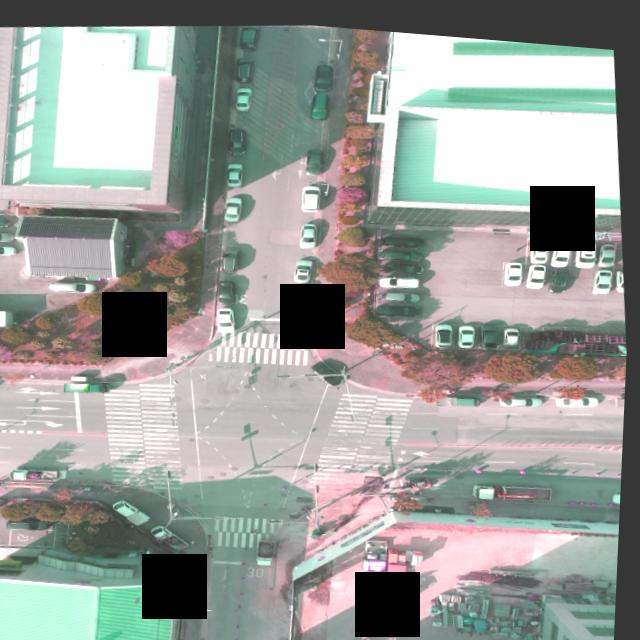car: (44, 274, 96, 296), (377, 224, 429, 244), (311, 354, 344, 382), (307, 85, 332, 116), (380, 241, 425, 258), (377, 295, 421, 312), (502, 384, 546, 401), (214, 300, 238, 331), (382, 252, 423, 270), (546, 255, 570, 285), (237, 19, 260, 49), (217, 275, 241, 302), (299, 178, 321, 207), (381, 266, 420, 282), (593, 256, 616, 283), (575, 228, 598, 255), (558, 385, 599, 400), (383, 283, 421, 299), (549, 233, 572, 259), (524, 254, 547, 280), (502, 251, 525, 277), (292, 252, 314, 279), (226, 123, 247, 151), (312, 57, 333, 85), (302, 142, 323, 170), (222, 190, 243, 217), (298, 217, 318, 244), (233, 82, 254, 107), (292, 279, 313, 304), (531, 229, 552, 253), (434, 315, 454, 340), (458, 317, 479, 340), (479, 317, 500, 340), (224, 159, 244, 183), (221, 245, 240, 269), (599, 233, 618, 257), (230, 58, 248, 79), (504, 318, 522, 338), (0, 243, 19, 257), (615, 257, 626, 281), (0, 229, 18, 242), (0, 215, 15, 229), (611, 481, 625, 494)
medium_truck: (477, 470, 553, 497)
small_truck: (111, 493, 156, 527), (12, 463, 74, 486), (152, 521, 197, 550), (64, 372, 115, 394), (434, 385, 487, 402), (255, 531, 282, 563)
